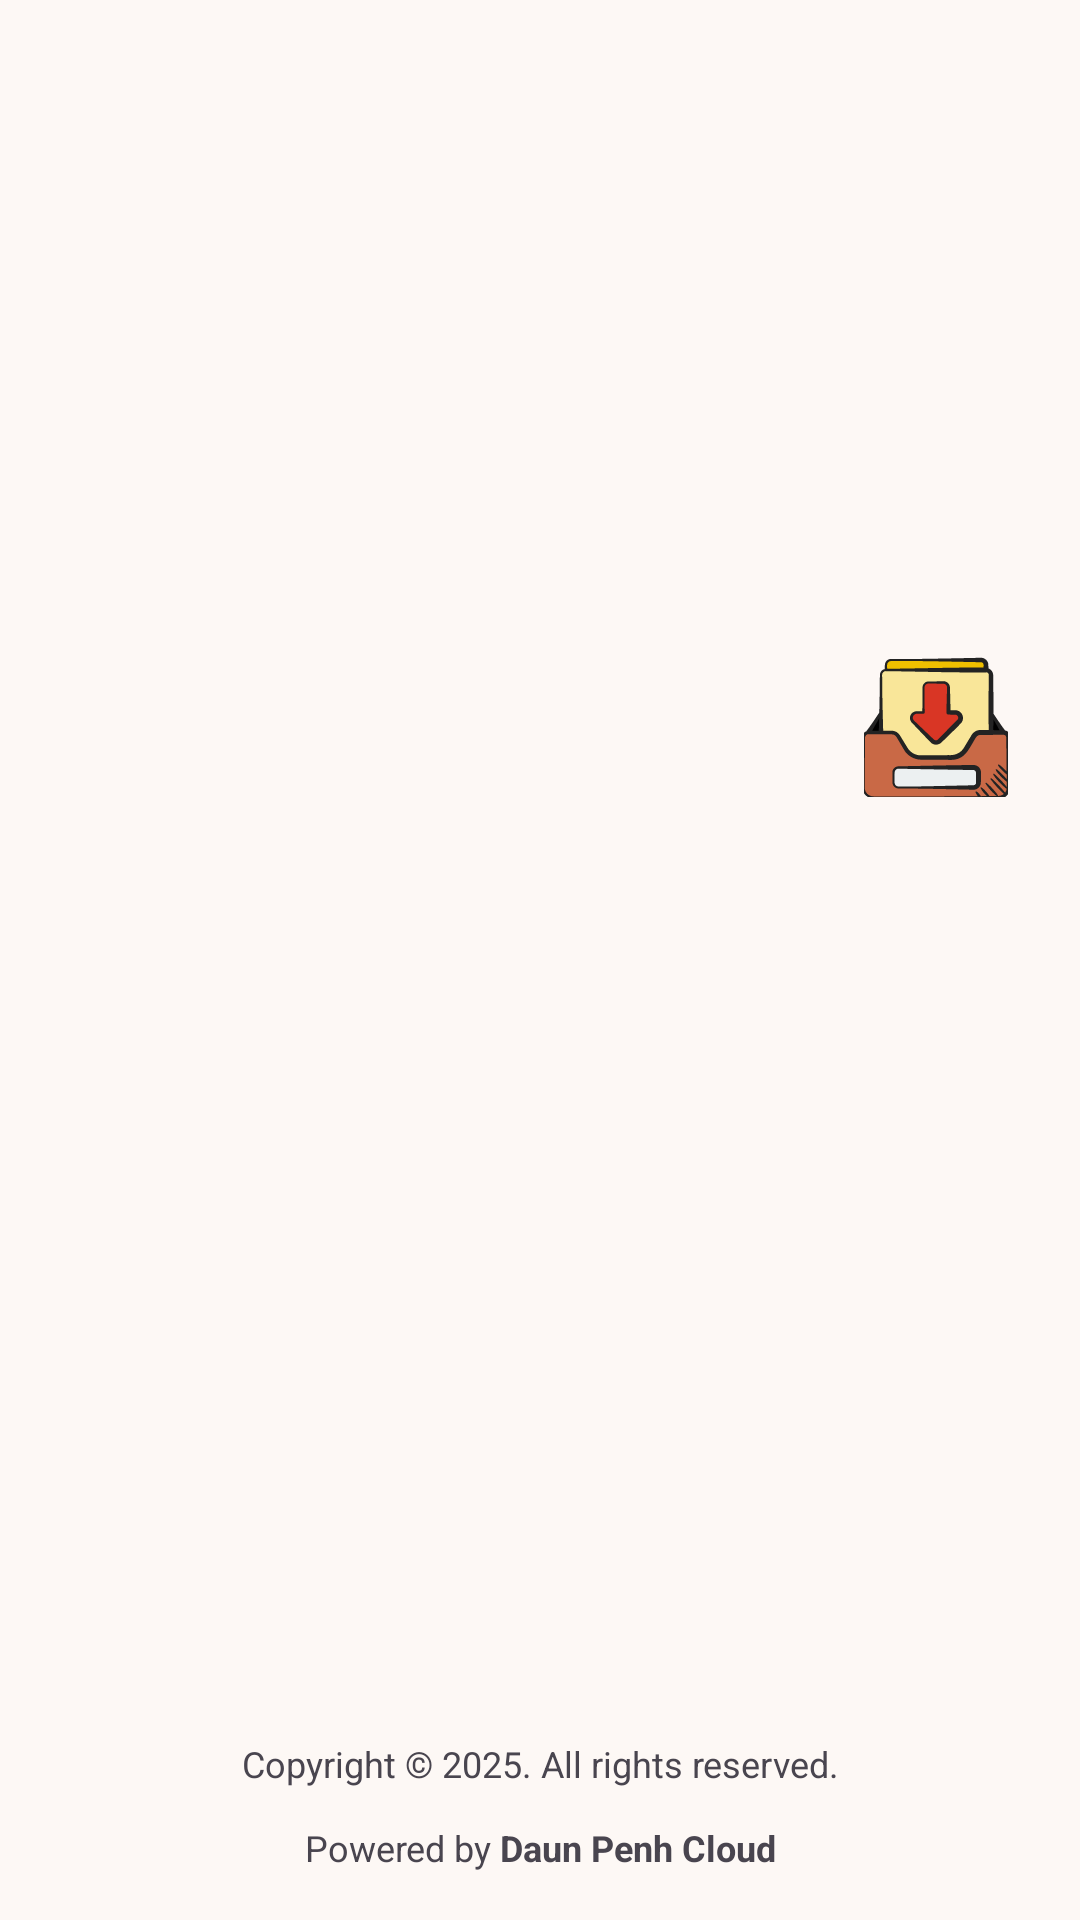

Where to tap for icons on this 1080*1920 app screen, as (x,y):
inbox: (936,727)
